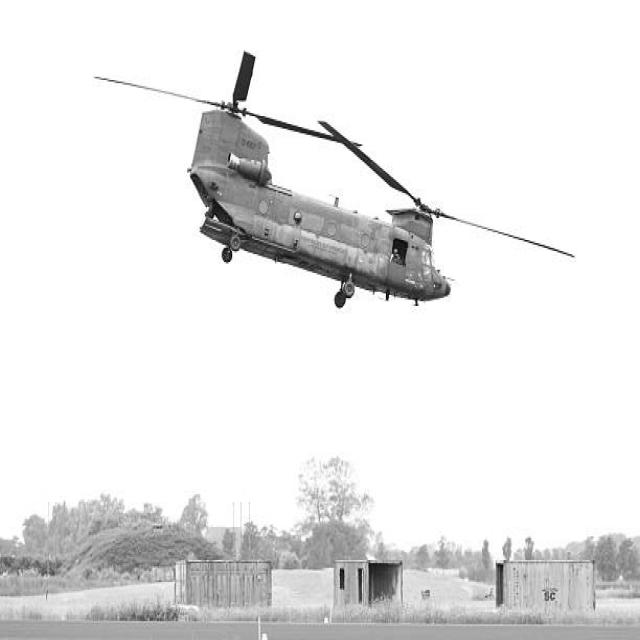Helicopter: (190, 55, 449, 306)
